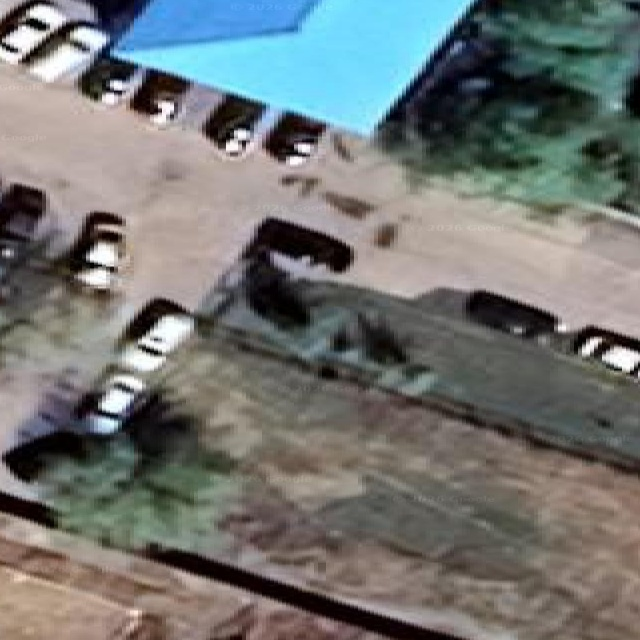car: (241, 218, 353, 272), (118, 298, 194, 373), (63, 212, 128, 292), (0, 184, 52, 278), (24, 23, 108, 81), (466, 290, 564, 339), (73, 373, 145, 435), (0, 2, 66, 63), (203, 96, 265, 157), (573, 326, 639, 378), (130, 70, 188, 126), (264, 114, 325, 166), (79, 57, 136, 105)
